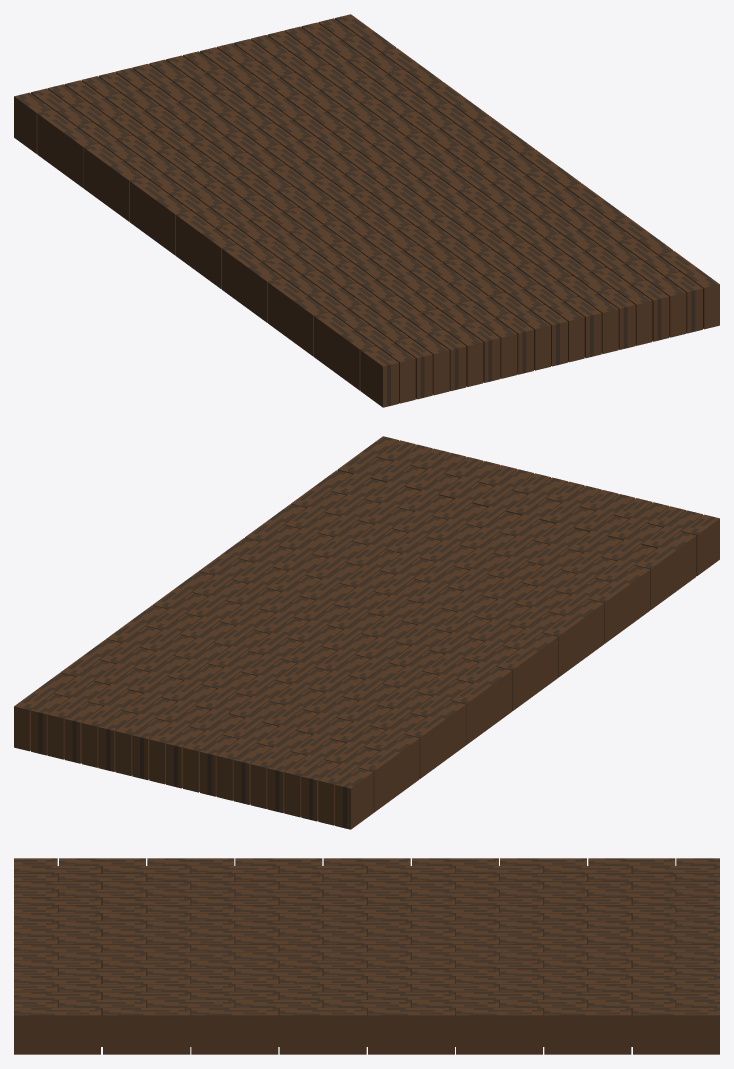
Rendered from legno pavimento scuro fbx.fbx.
The picture shows the model from 3 angles, top to bottom: view 1: azimuth 30°, elevation 25°; view 2: azimuth 150°, elevation 25°; view 3: azimuth 270°, elevation 25°; orthographic projection. The views are drawn at different scales.
Parts seen in each view (by area): view 1: asse1; view 2: asse1; view 3: asse1.
Boxes of the visible parts, x1=… form: asse1: x1=14, y1=14, x2=719, y2=407; asse1: x1=14, y1=436, x2=719, y2=829; asse1: x1=14, y1=858, x2=719, y2=1054.
Bounding box in the file's own units: 855 × 100 × 1623.
